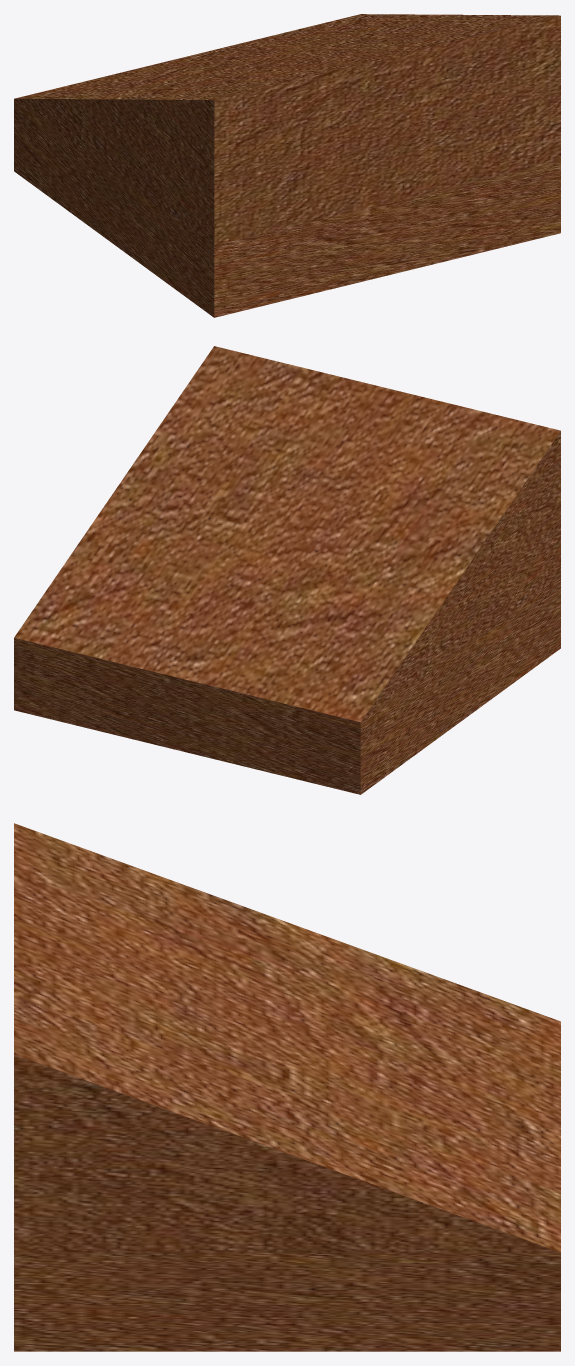
File: Map0022.fbx
3 renders of one model, top to bottom at view 1: azimuth 30°, elevation 25°; view 2: azimuth 150°, elevation 25°; view 3: azimuth 270°, elevation 25°, orthographic. The views are drawn at different scales.
Parts seen in each view (by area): view 1: Map0022, Map0000; view 2: Map0022, Map0000; view 3: Map0022, Map0000.
Part boxes in pixels (x1,y1,x2,y2): Map0022: (14,14,560,245); Map0000: (14,99,560,317); Map0022: (14,346,560,722); Map0000: (14,576,560,794); Map0022: (14,823,560,1252); Map0000: (14,1252,560,1351).
Bounding box in the file's own units: 200 × 120 × 200.
2 materials, 2 textured.
